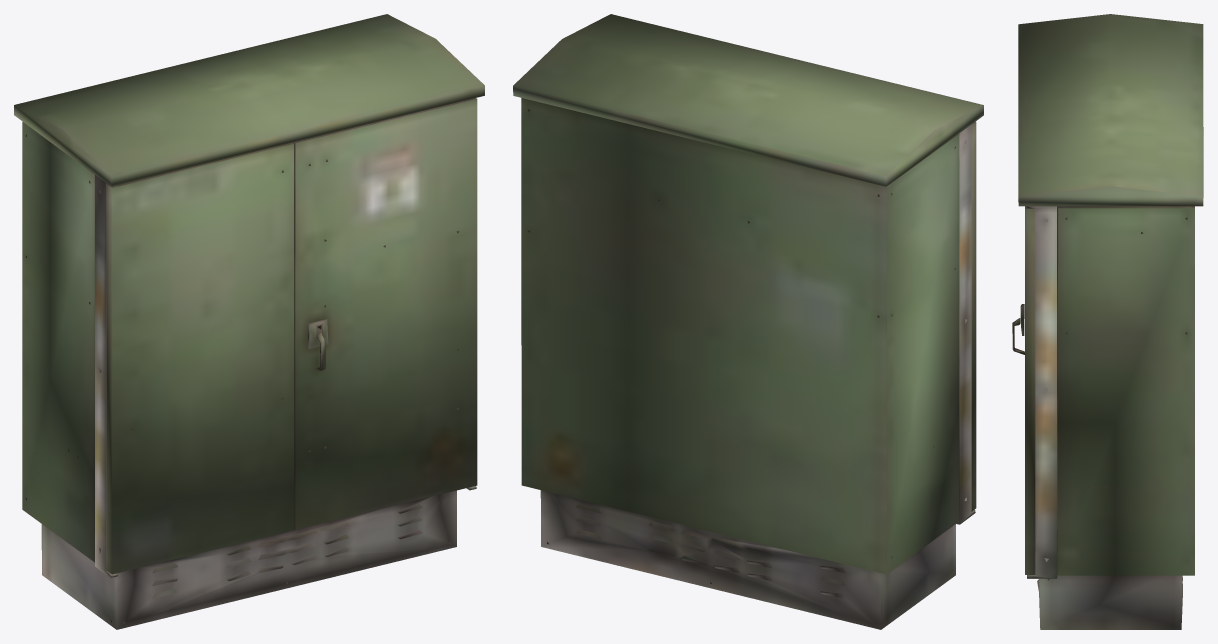
Rendered from electrical_box_lod1.glb.
The picture shows the model from 3 angles, left to right: view 1: azimuth 30°, elevation 25°; view 2: azimuth 150°, elevation 25°; view 3: azimuth 270°, elevation 25°; orthographic projection. The views are drawn at different scales.
Visible parts, largest first — view 1: electrical_box.001; view 2: electrical_box.001; view 3: electrical_box.001.
Boxes of the visible parts, left/top/right/bottom form: electrical_box.001: left=14, top=14, right=484, bottom=629; electrical_box.001: left=513, top=14, right=983, bottom=629; electrical_box.001: left=1012, top=14, right=1203, bottom=629.
Size of the model in its own units: 0.9164 by 1.12 by 0.4293.
Materials: 1 (1 with a texture image).
